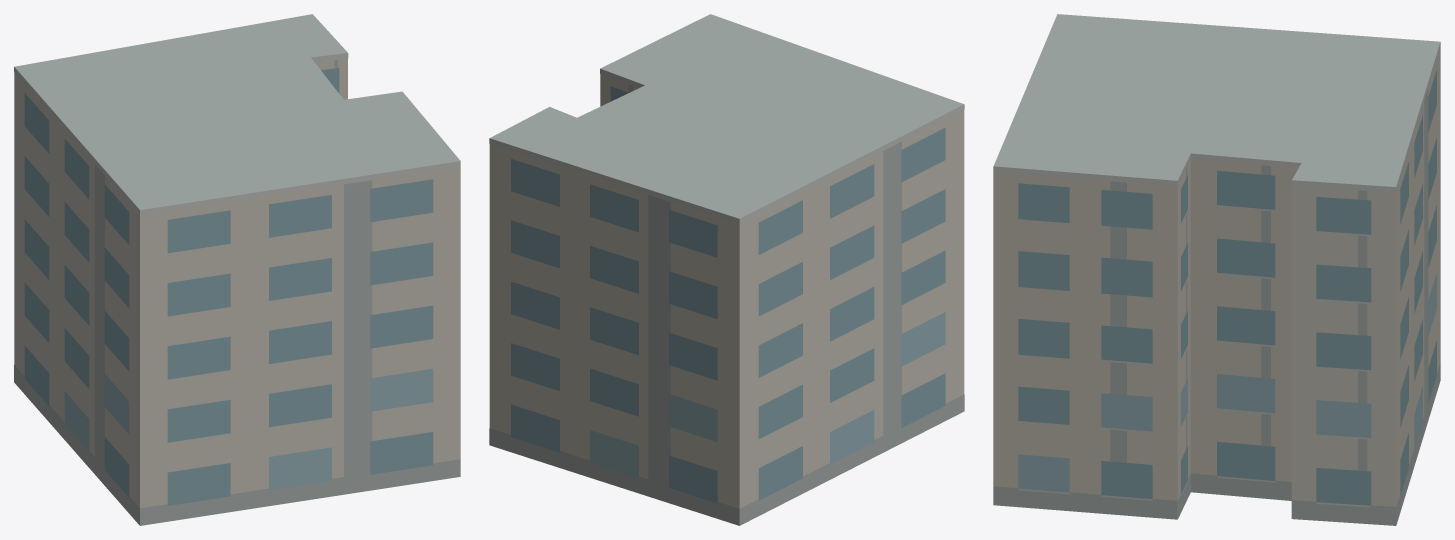
The model's file is survey-upis-32521352.glb.
3 views of the same model, side by side, from view 1: azimuth 30°, elevation 25°; view 2: azimuth 150°, elevation 25°; view 3: azimuth 270°, elevation 25° (orthographic). The views are drawn at different scales.
Visible parts, largest first — view 1: survey-upis-32521352.tmp; view 2: survey-upis-32521352.tmp; view 3: survey-upis-32521352.tmp.
Part boxes in pixels (left/top/right/bottom): survey-upis-32521352.tmp: left=14, top=14, right=460, bottom=525; survey-upis-32521352.tmp: left=489, top=14, right=964, bottom=525; survey-upis-32521352.tmp: left=993, top=14, right=1440, bottom=525.
Bounding box in the file's own units: 15.29 × 13.95 × 16.69.
